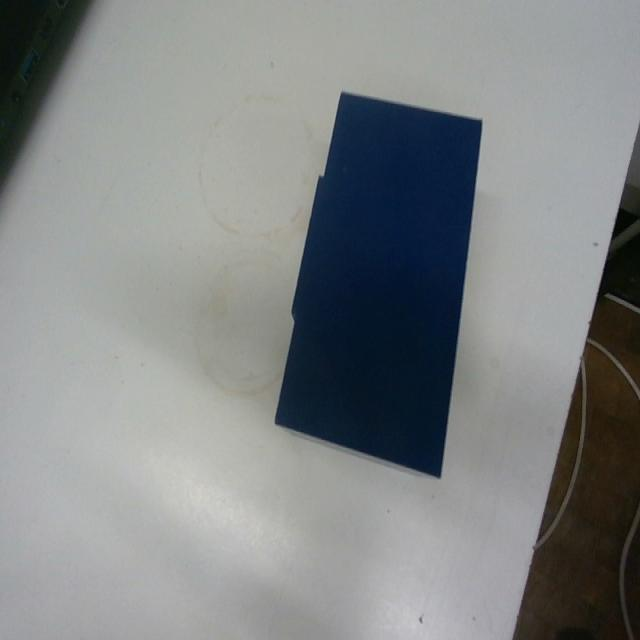Blue Cuboid: (272, 87, 484, 480)
